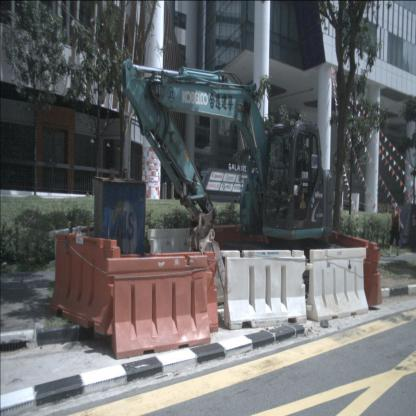barrier: (106, 255, 211, 360), (50, 232, 123, 336), (220, 249, 307, 330), (142, 250, 218, 334), (304, 246, 369, 322), (49, 224, 104, 300), (328, 230, 382, 306), (148, 228, 205, 290), (108, 254, 142, 336), (204, 223, 241, 270)
